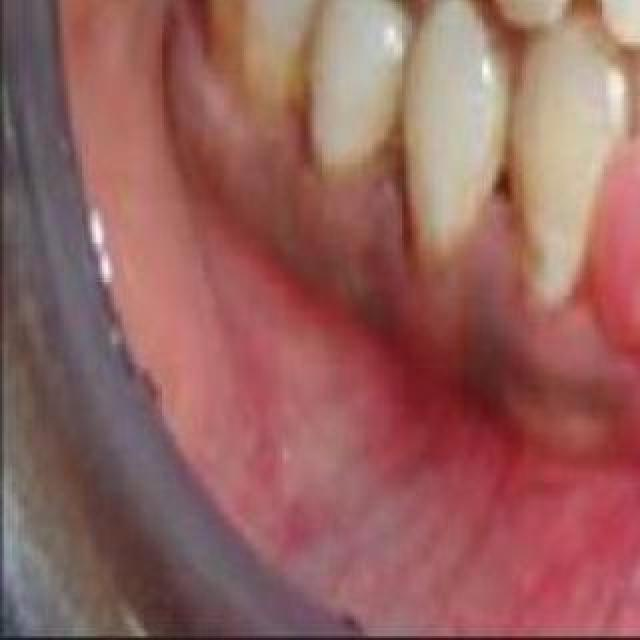stains: (506, 193, 608, 317), (391, 166, 487, 282), (304, 128, 392, 238)
